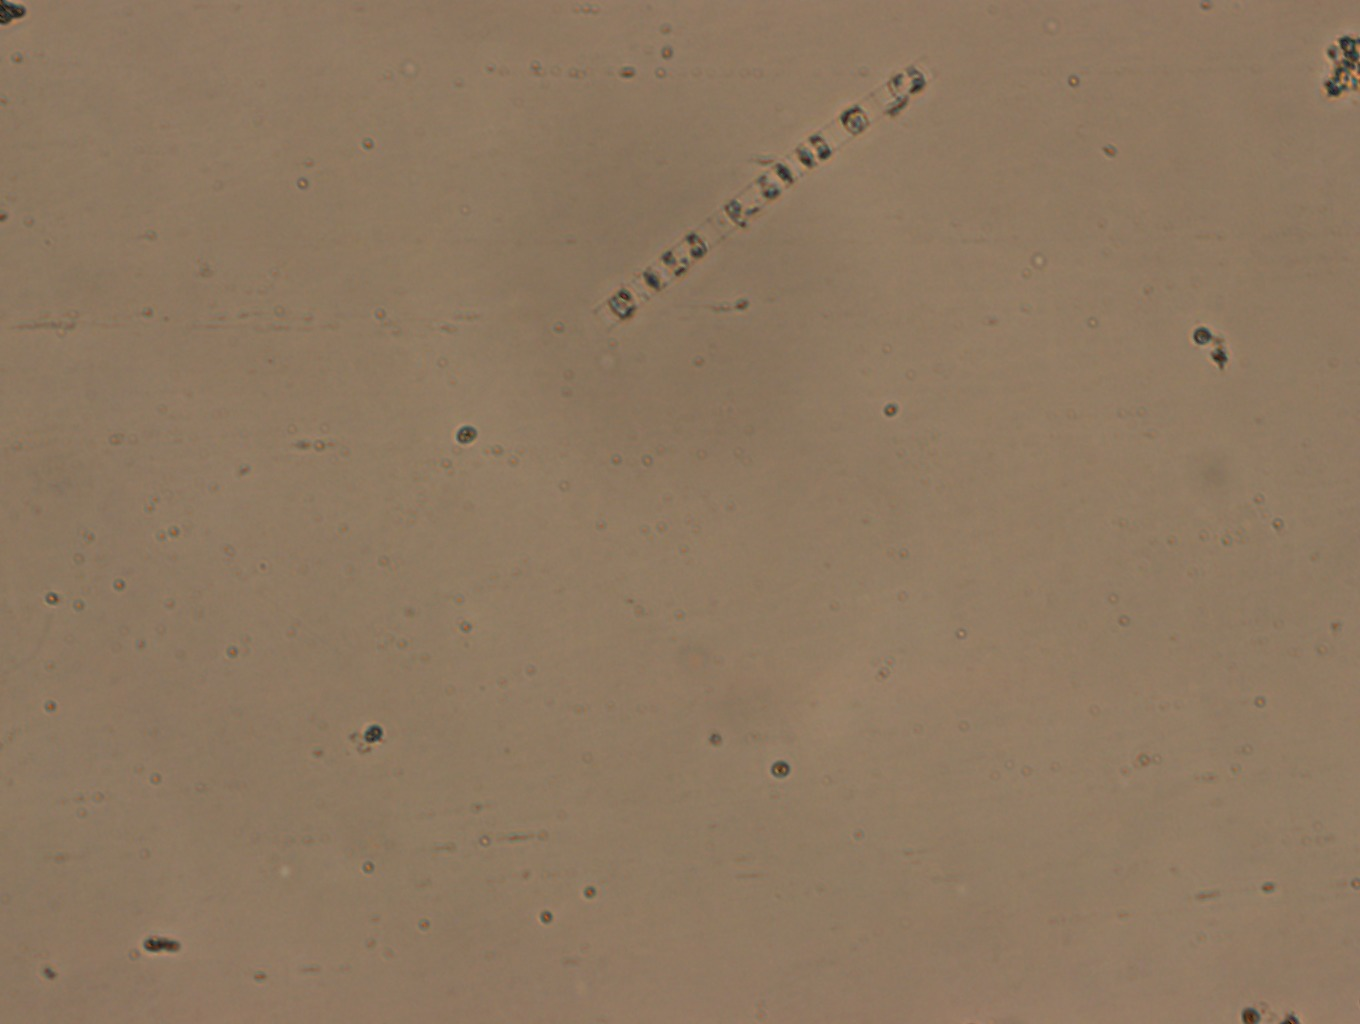skeletonema: (596, 66, 928, 326)
